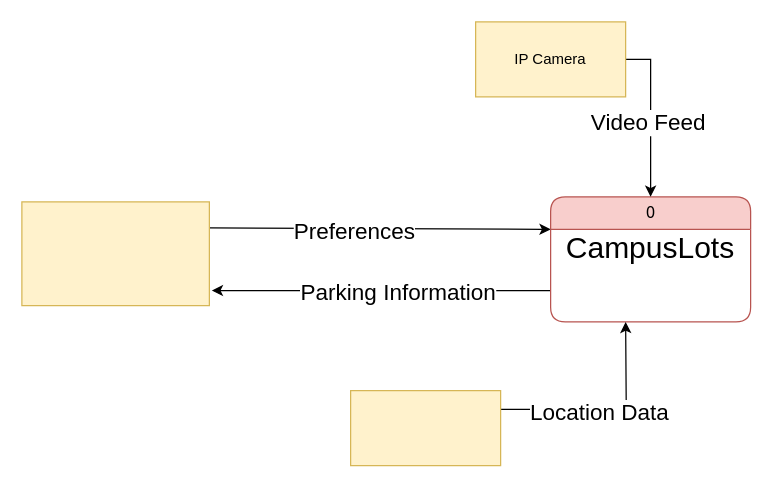
Image size: 773x488. Some labels were removed from this diagram. The centre of each missing label's shape, as x and y in pixels:
"Google Maps API" belongs at point (425, 427).
"User" belongs at point (115, 253).
